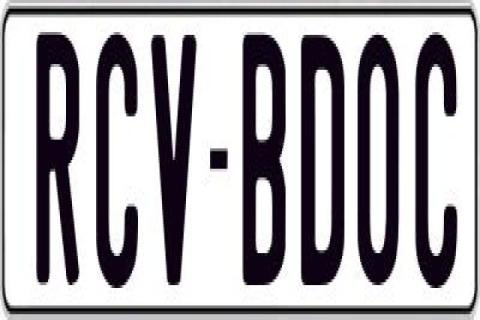0: (356, 32, 400, 282)
B: (242, 29, 292, 294)
C: (96, 26, 140, 291), (413, 32, 459, 285)
D: (300, 35, 344, 297)
R: (34, 23, 82, 280)
V: (148, 35, 200, 294)
